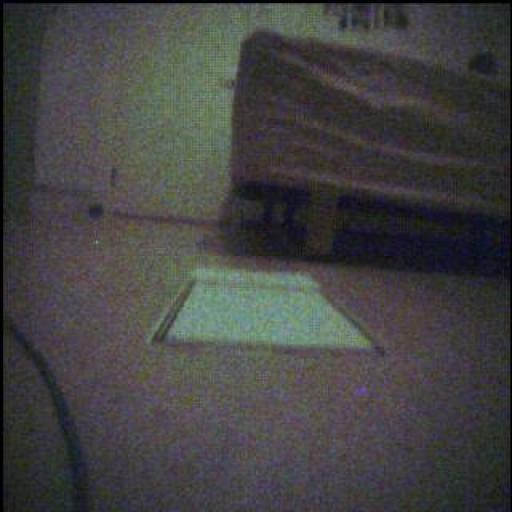pad: (153, 269, 374, 352)
